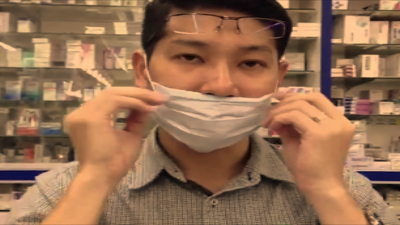mask_weared_incorrect: (147, 37, 282, 154)
